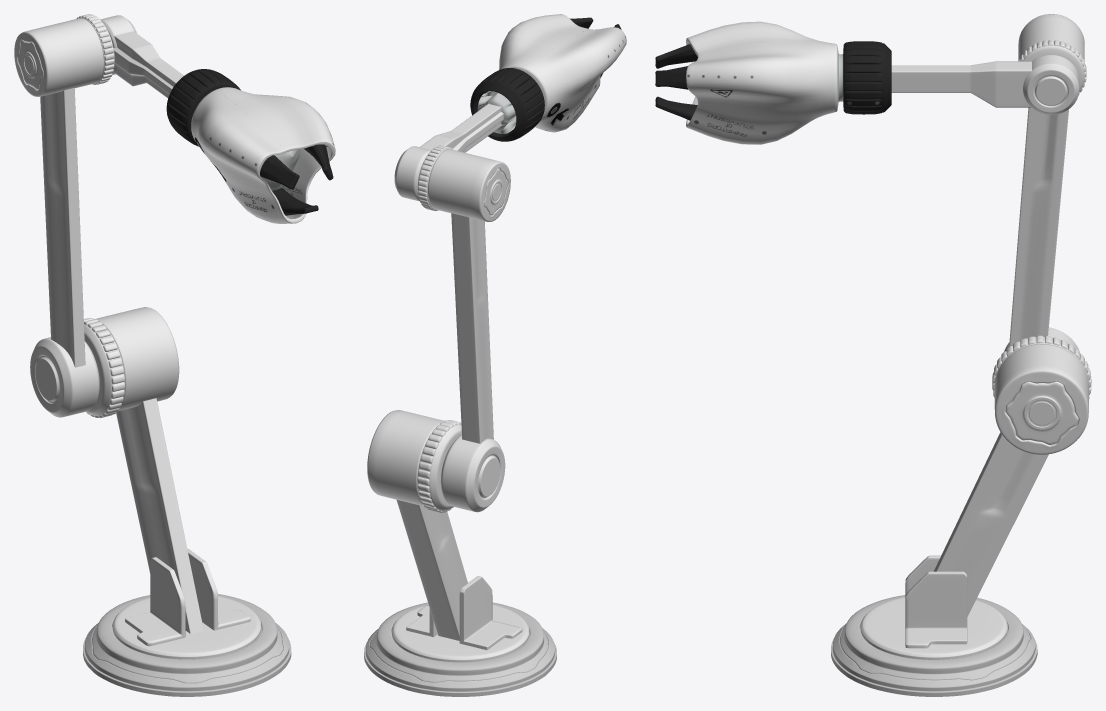
The model's file is arm_4.fbx.
3 renders of one model, left to right at view 1: azimuth 30°, elevation 25°; view 2: azimuth 150°, elevation 25°; view 3: azimuth 270°, elevation 25°, orthographic. The views are drawn at different scales.
Visible parts, largest first — view 1: Plane.004, Plane.003, Plane.005, Plane.001, Plane; view 2: Plane.004, Plane.003, Plane.005, Plane.001, Plane; view 3: Plane.003, Plane.005, Plane.004, Plane, Plane.001.
Boxes of the visible parts, <box> form: Plane.004: <box>14,14,114,417</box>; Plane.003: <box>100,15,335,223</box>; Plane.005: <box>84,307,203,633</box>; Plane.001: <box>83,594,291,696</box>; Plane: <box>112,549,261,659</box>; Plane.004: <box>417,145,510,512</box>; Plane.003: <box>394,14,626,201</box>; Plane.005: <box>367,410,467,640</box>; Plane.001: <box>364,602,556,696</box>; Plane: <box>392,576,529,662</box>; Plane.003: <box>655,21,1079,144</box>; Plane.005: <box>933,335,1091,616</box>; Plane.004: <box>1004,14,1086,354</box>; Plane: <box>860,555,1007,659</box>; Plane.001: <box>831,595,1037,696</box>.
Size of the model in its own units: 381 by 1176 by 769.
